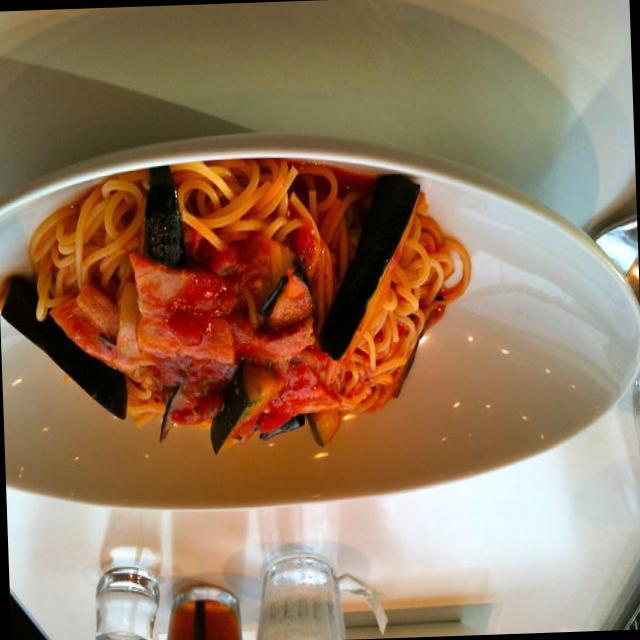Pasta: (6, 148, 465, 461)
